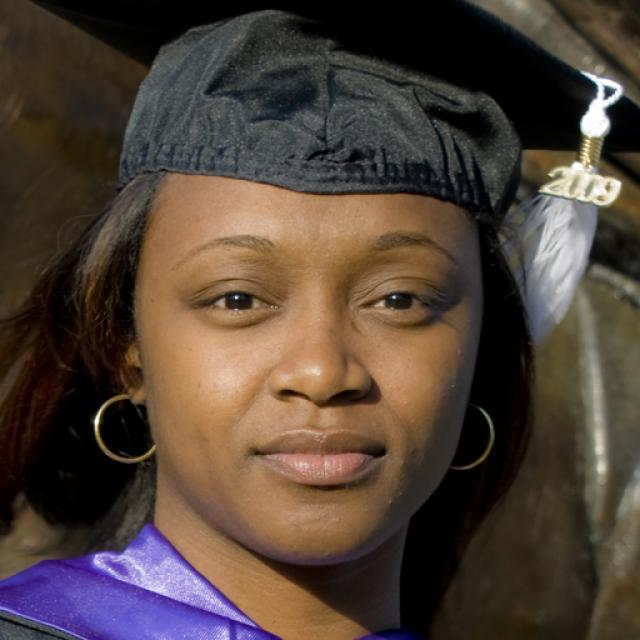neutral: (135, 166, 485, 566)
